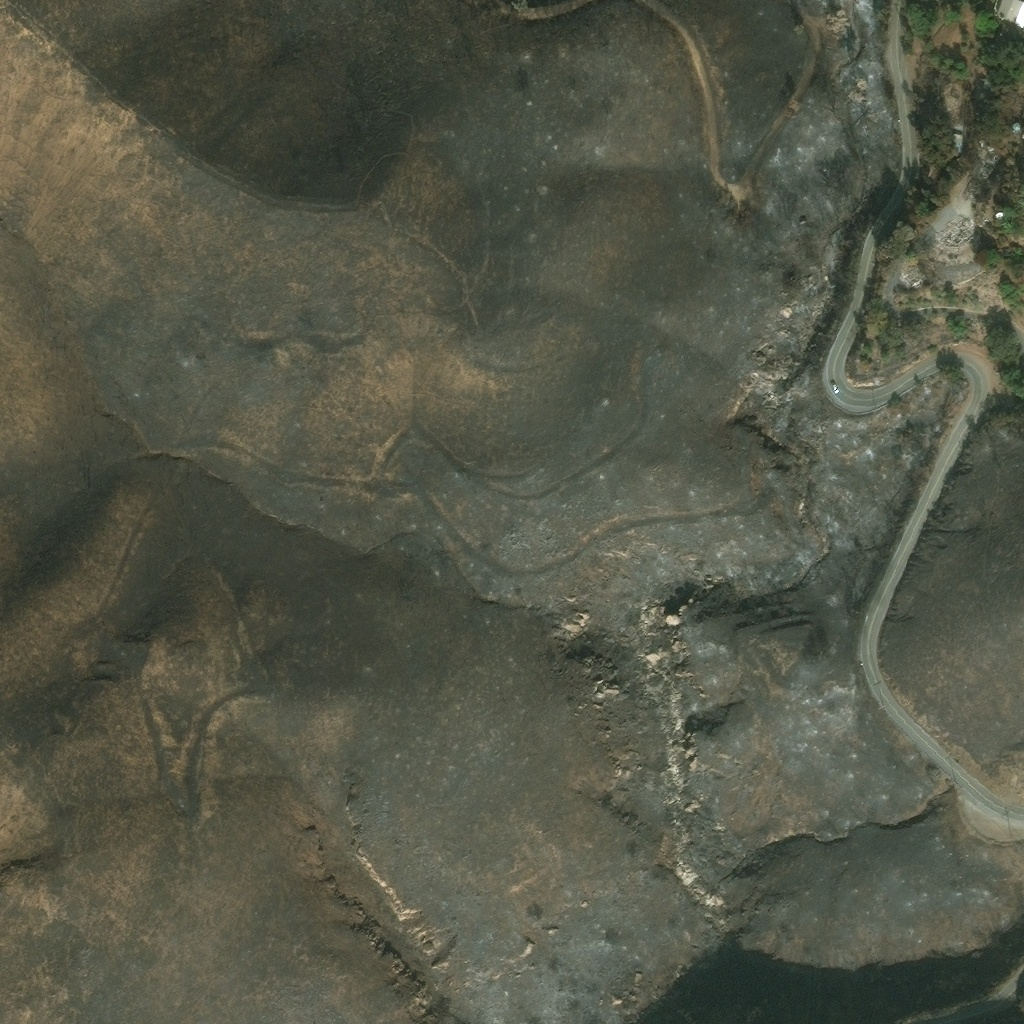0 no-damage: (920, 151, 945, 184), (993, 0, 1023, 27), (950, 133, 962, 151), (1007, 119, 1022, 133), (981, 78, 994, 90), (996, 249, 1010, 257)
3 destroyed: (936, 214, 976, 251), (899, 267, 921, 289), (965, 179, 980, 196), (993, 153, 999, 158)
4 un-classified: (930, 0, 942, 4)
